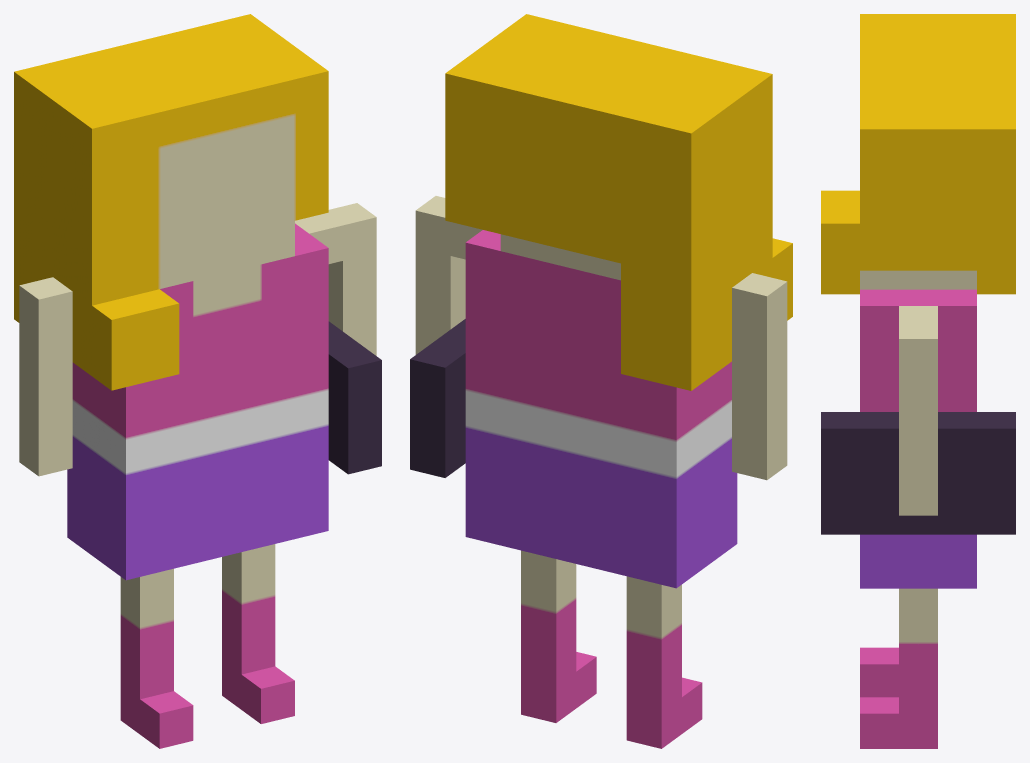
The picture shows the model from 3 angles, left to right: view 1: azimuth 30°, elevation 25°; view 2: azimuth 150°, elevation 25°; view 3: azimuth 270°, elevation 25°; orthographic projection. The views are drawn at different scales.
Parts seen in each view (by area): view 1: Paris; view 2: Paris; view 3: Paris.
Part boxes in pixels (bbox=[...]): Paris: bbox=[14, 14, 381, 748]; Paris: bbox=[410, 14, 792, 748]; Paris: bbox=[821, 14, 1015, 748].
Size of the model in its own units: 0.625 by 1.12 by 0.3125.
